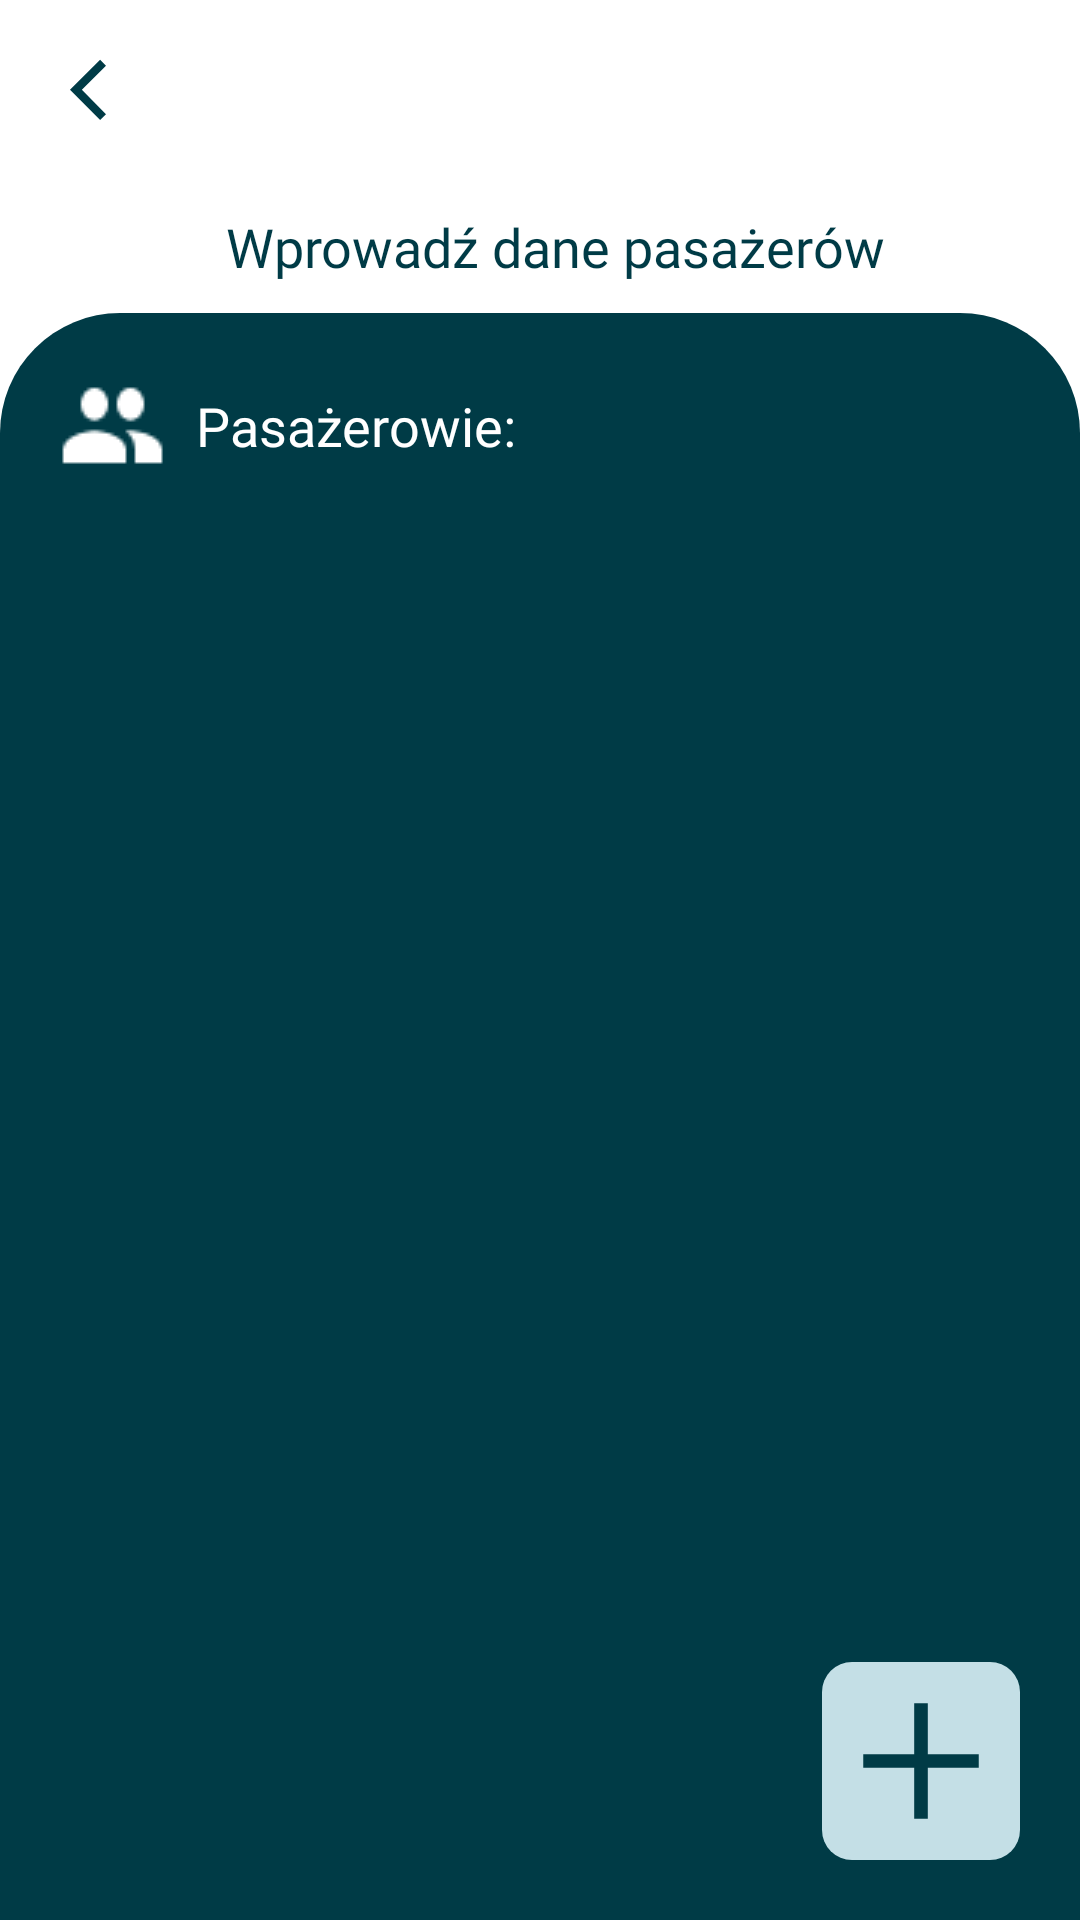

Point at icon controls on the screen. Image size 1080px×1920px, points as (x=x, y=y).
passengers: (x=112, y=425)
